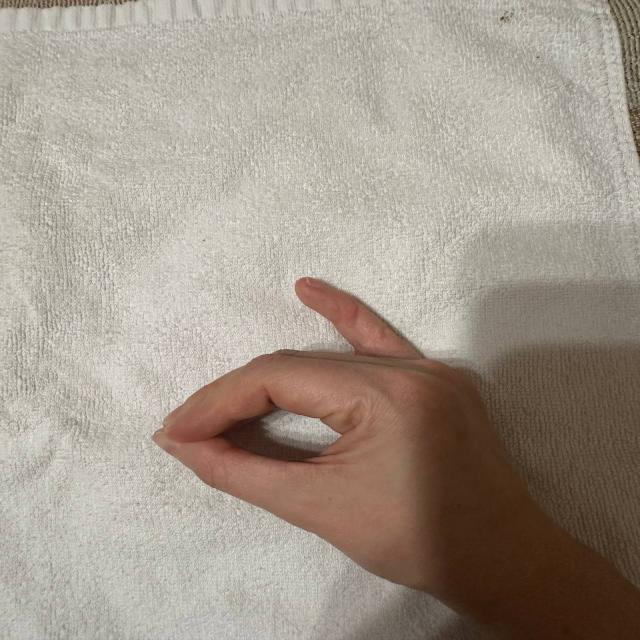iu: (128, 269, 546, 580)
